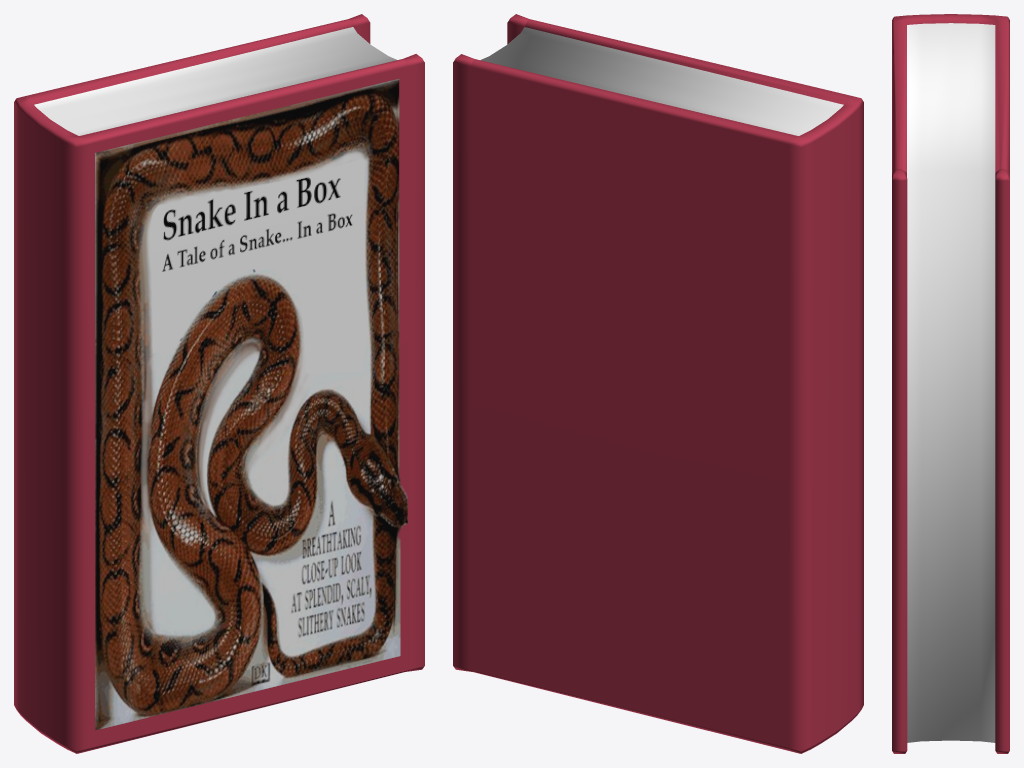
Rendered from book_snake.fbx.
The picture shows the model from 3 angles, left to right: view 1: azimuth 30°, elevation 25°; view 2: azimuth 150°, elevation 25°; view 3: azimuth 270°, elevation 25°; orthographic projection. The views are drawn at different scales.
Parts seen in each view (by area): view 1: book; view 2: book; view 3: book.
Boxes of the visible parts, left/top/right/bottom form: book: left=14, top=14, right=424, bottom=753; book: left=453, top=14, right=863, bottom=753; book: left=892, top=14, right=1009, bottom=753.
Bounding box in the file's own units: 20.35 × 33.53 × 6.19.
